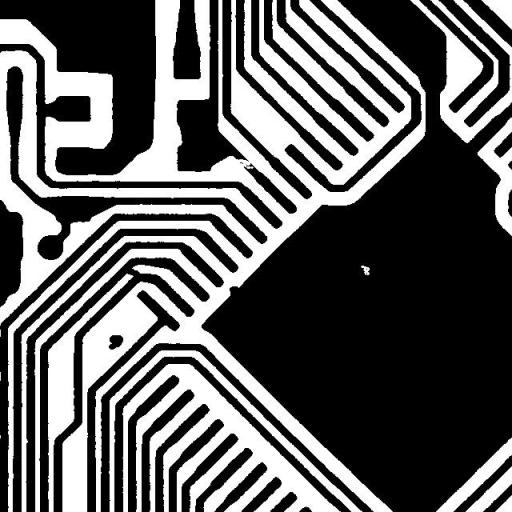copper: (101, 327, 130, 357)
open: (225, 151, 261, 176)
pin-hole: (353, 258, 377, 282)
short: (116, 260, 148, 286)
spur: (222, 278, 246, 304)
